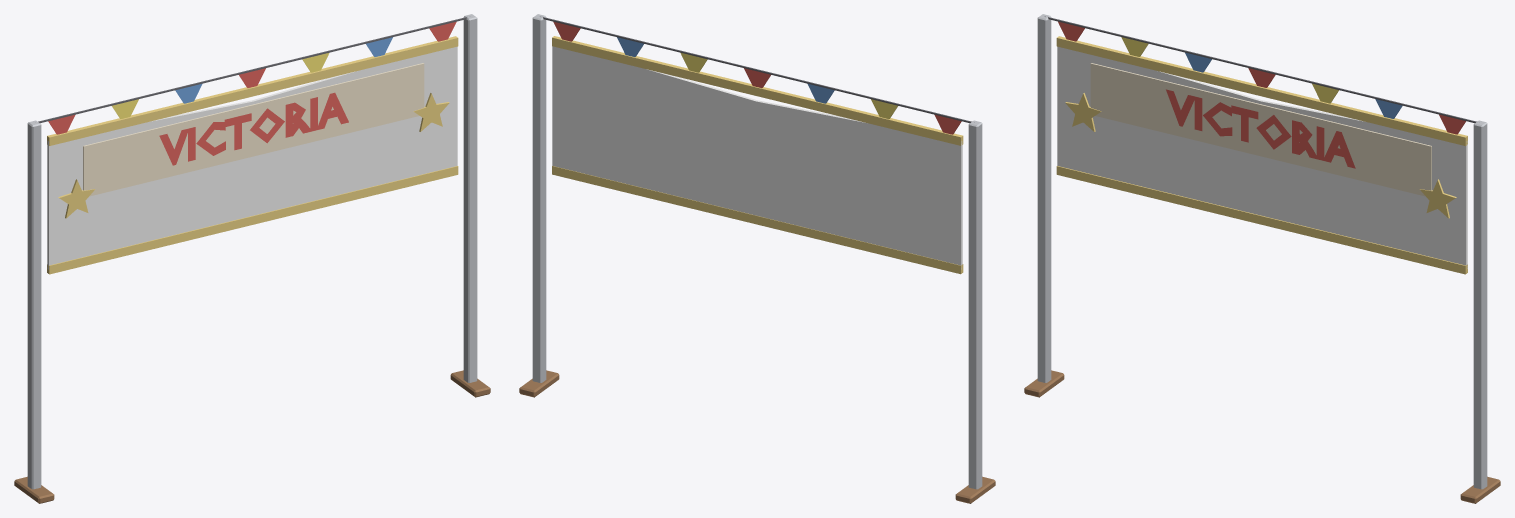
Rendered from prop_victory_banner_01.glb.
3 views of the same model, side by side, from view 1: azimuth 30°, elevation 25°; view 2: azimuth 150°, elevation 25°; view 3: azimuth 330°, elevation 25° (orthographic).
Parts seen in each view (by area): view 1: prop_victory_banner_01_body; view 2: prop_victory_banner_01_body; view 3: prop_victory_banner_01_body.
Part boxes in pixels (bbox=[...]): prop_victory_banner_01_body: bbox=[14, 14, 490, 503]; prop_victory_banner_01_body: bbox=[519, 14, 995, 503]; prop_victory_banner_01_body: bbox=[1024, 14, 1500, 503].
Size of the model in its own units: 3.32 by 2.6 by 0.32.
